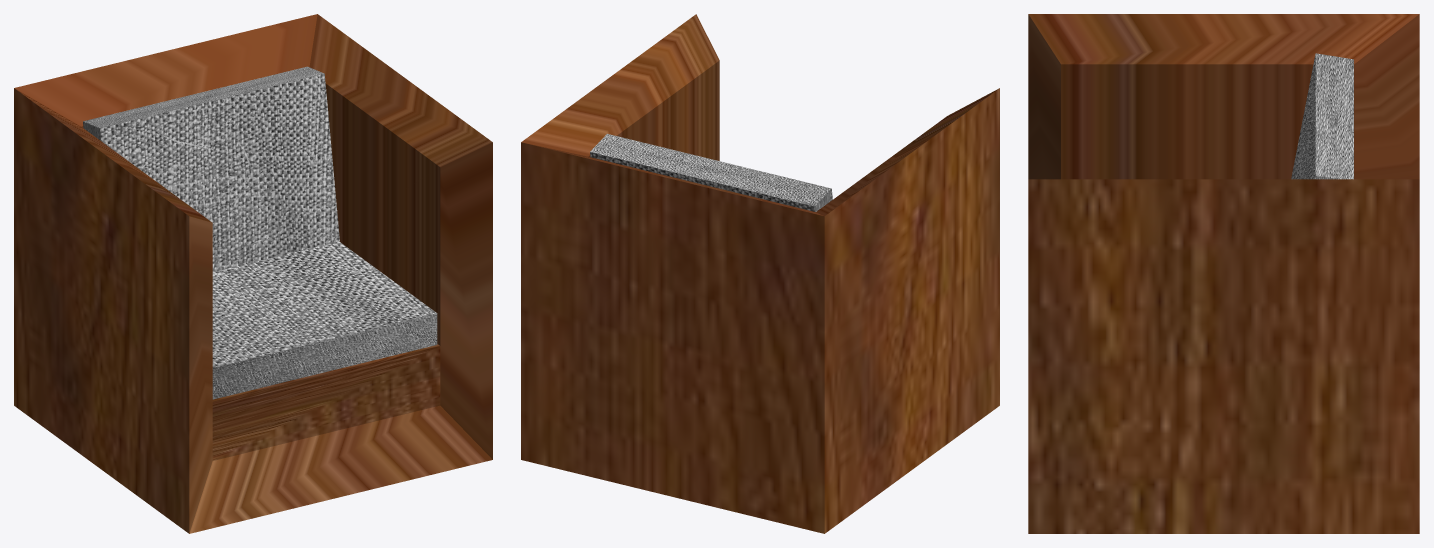
Rendered from chair2.glb.
3 renders of one model, left to right at view 1: azimuth 30°, elevation 25°; view 2: azimuth 150°, elevation 25°; view 3: azimuth 270°, elevation 25°, orthographic. The views are drawn at different scales.
Parts seen in each view (by area): view 1: Cube, Cube.002, Cube.001; view 2: Cube, Cube.002; view 3: Cube, Cube.002.
Part boxes in pixels (<box>): Cube: <box>14,14,492,533</box>; Cube.002: <box>83,66,339,271</box>; Cube.001: <box>212,241,437,399</box>; Cube: <box>521,14,999,533</box>; Cube.002: <box>590,133,832,211</box>; Cube: <box>1028,14,1419,533</box>; Cube.002: <box>1291,53,1353,179</box>.
Bounding box in the file's own units: 2 × 2 × 2.
2 materials, 2 textured.
